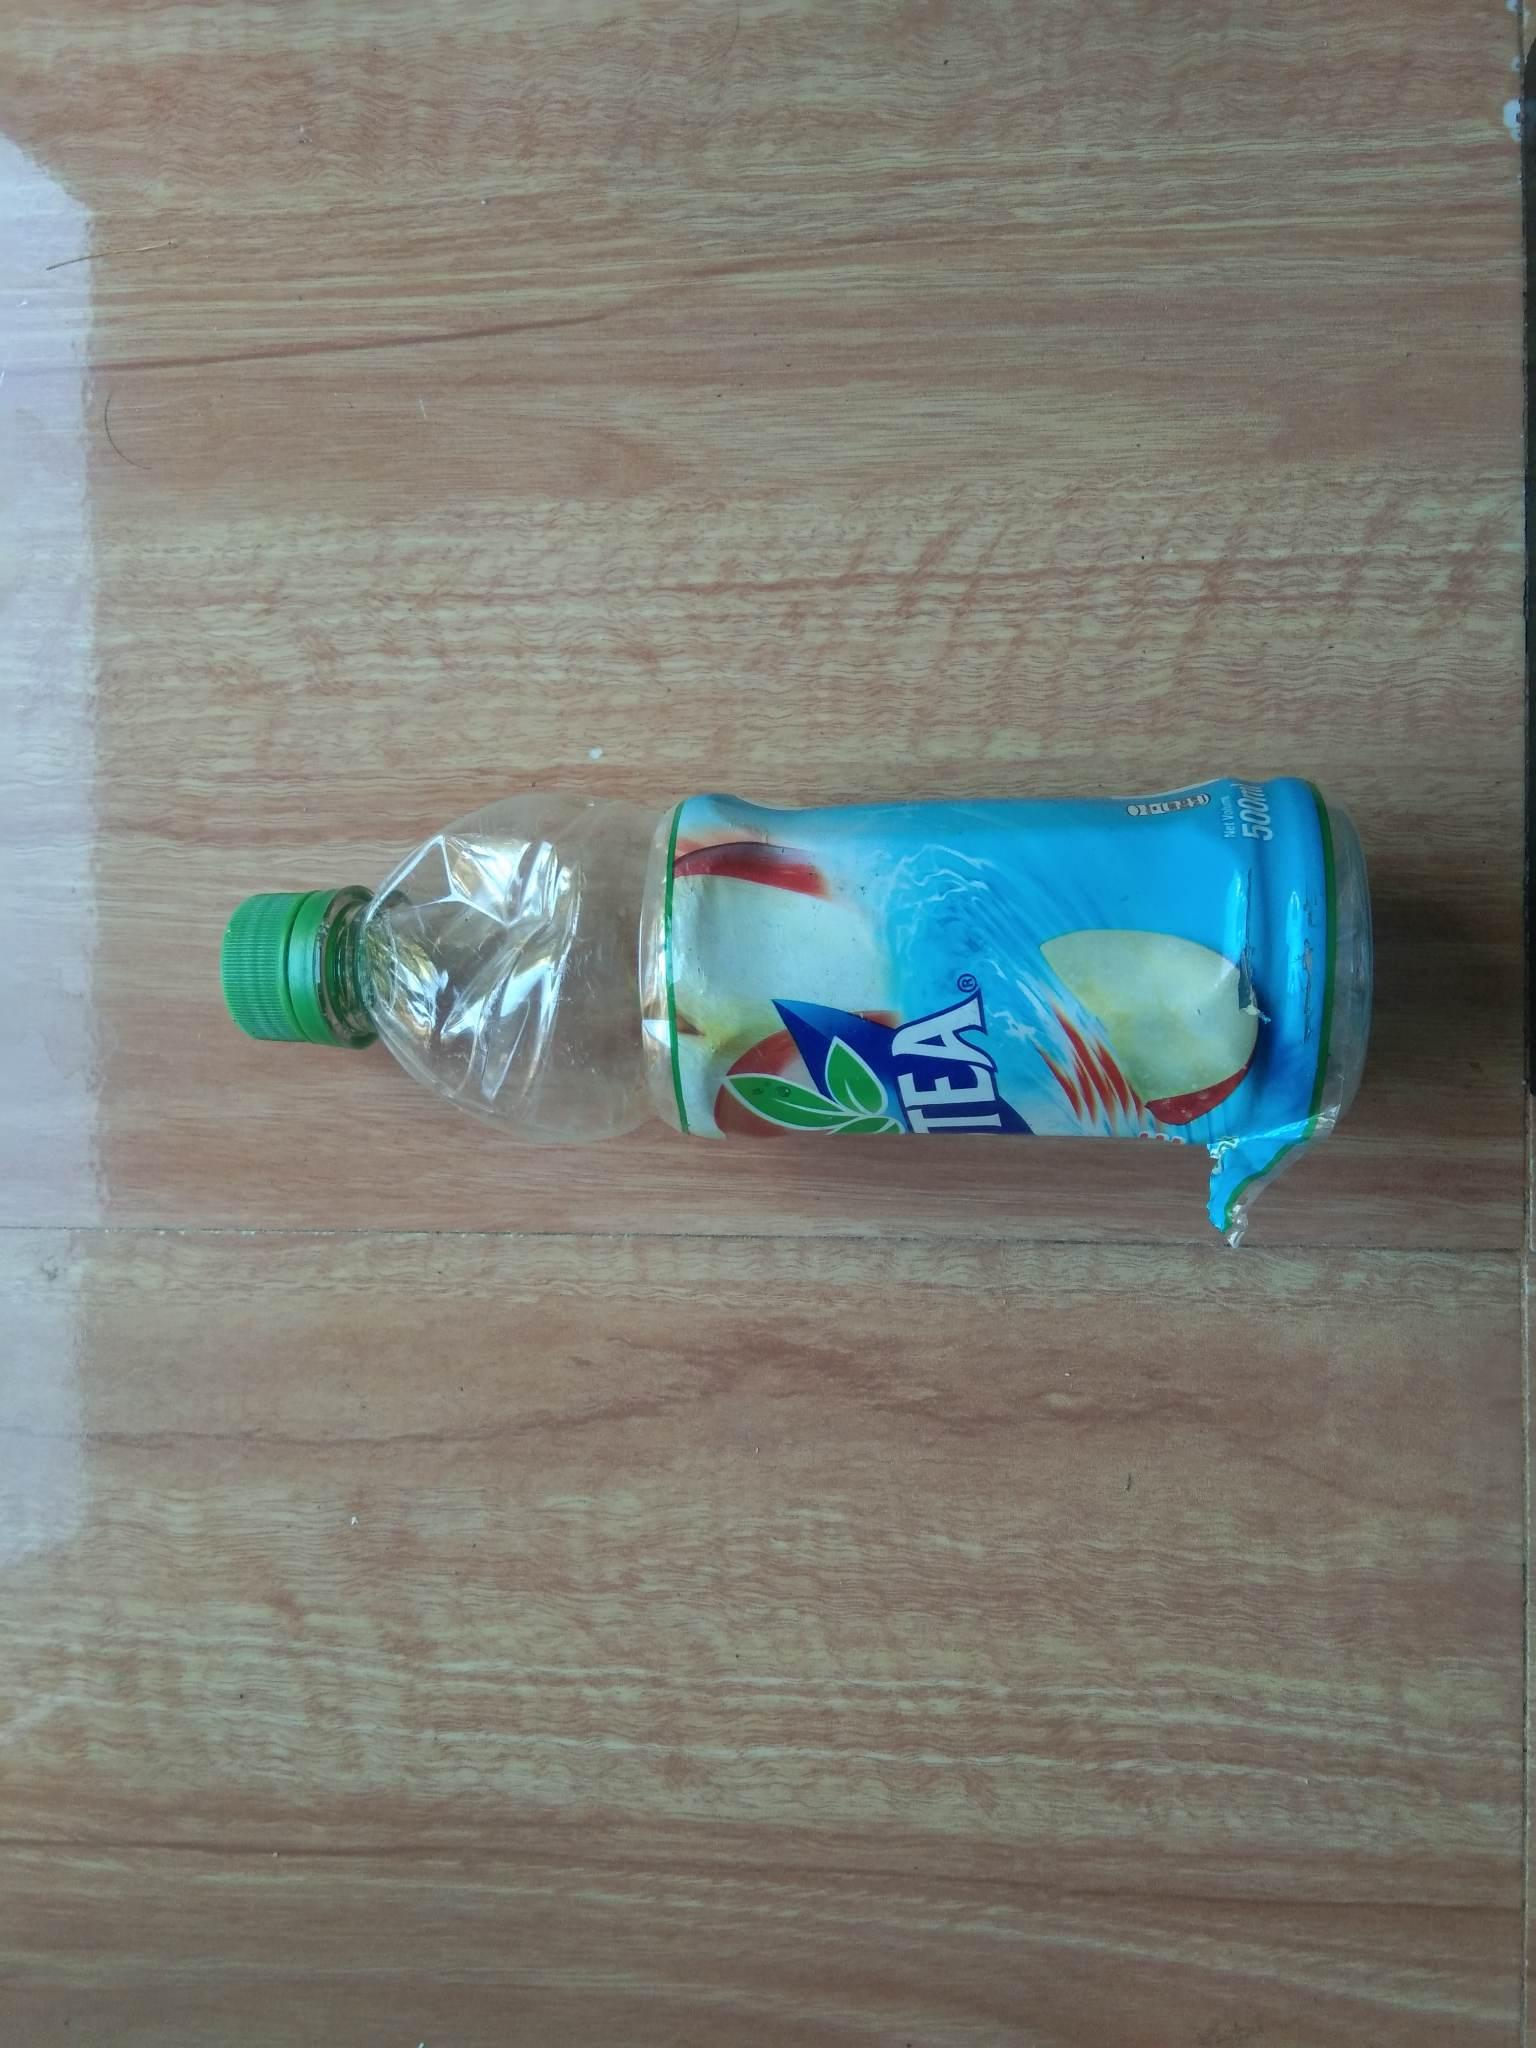plastic: (113, 681, 1463, 1250)
